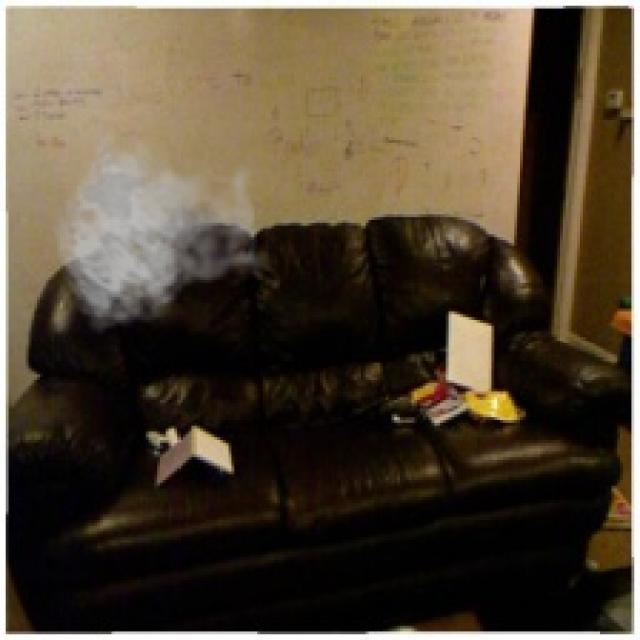smoke: (52, 129, 274, 334)
